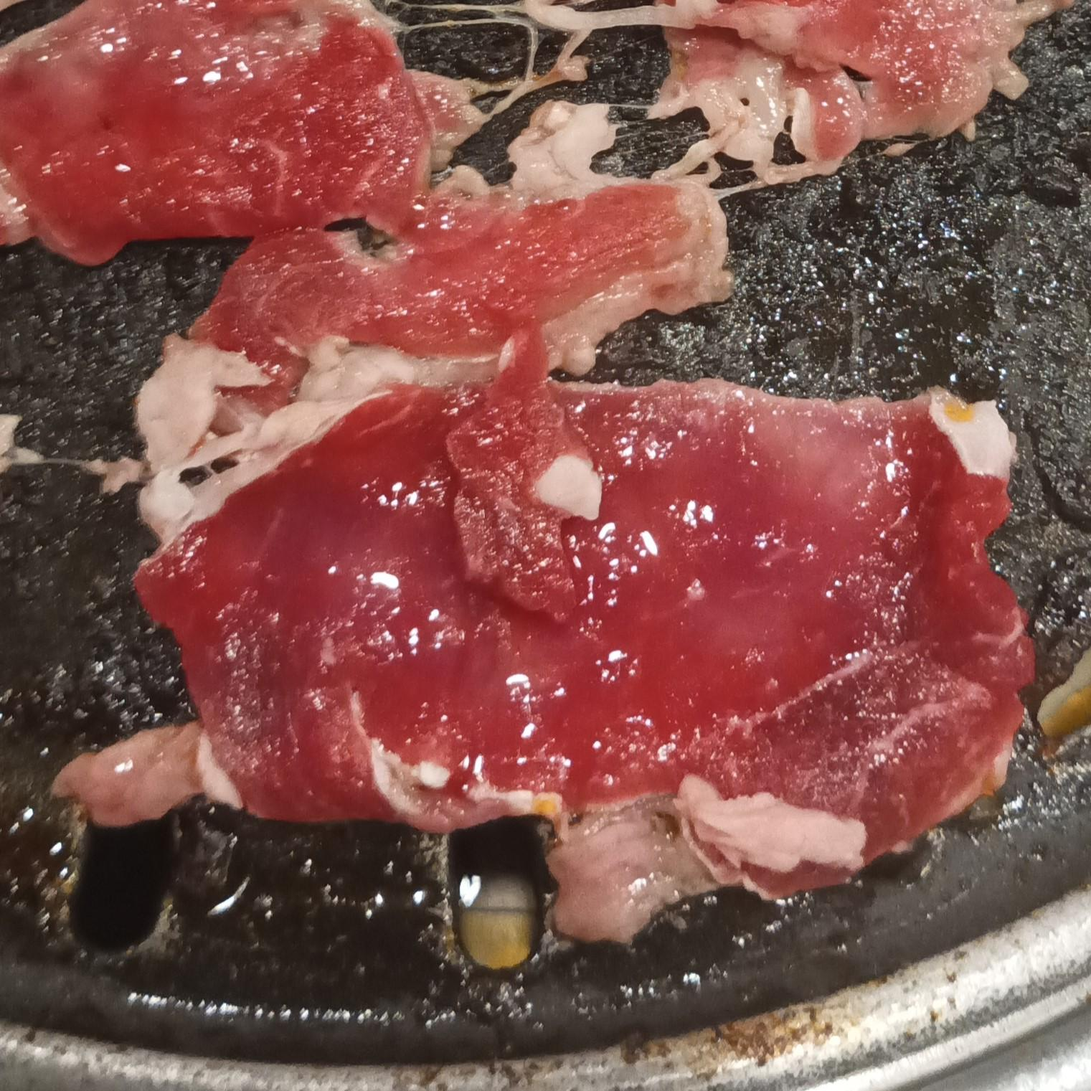Undercooked: (138, 325, 1033, 884), (0, 0, 480, 264)
